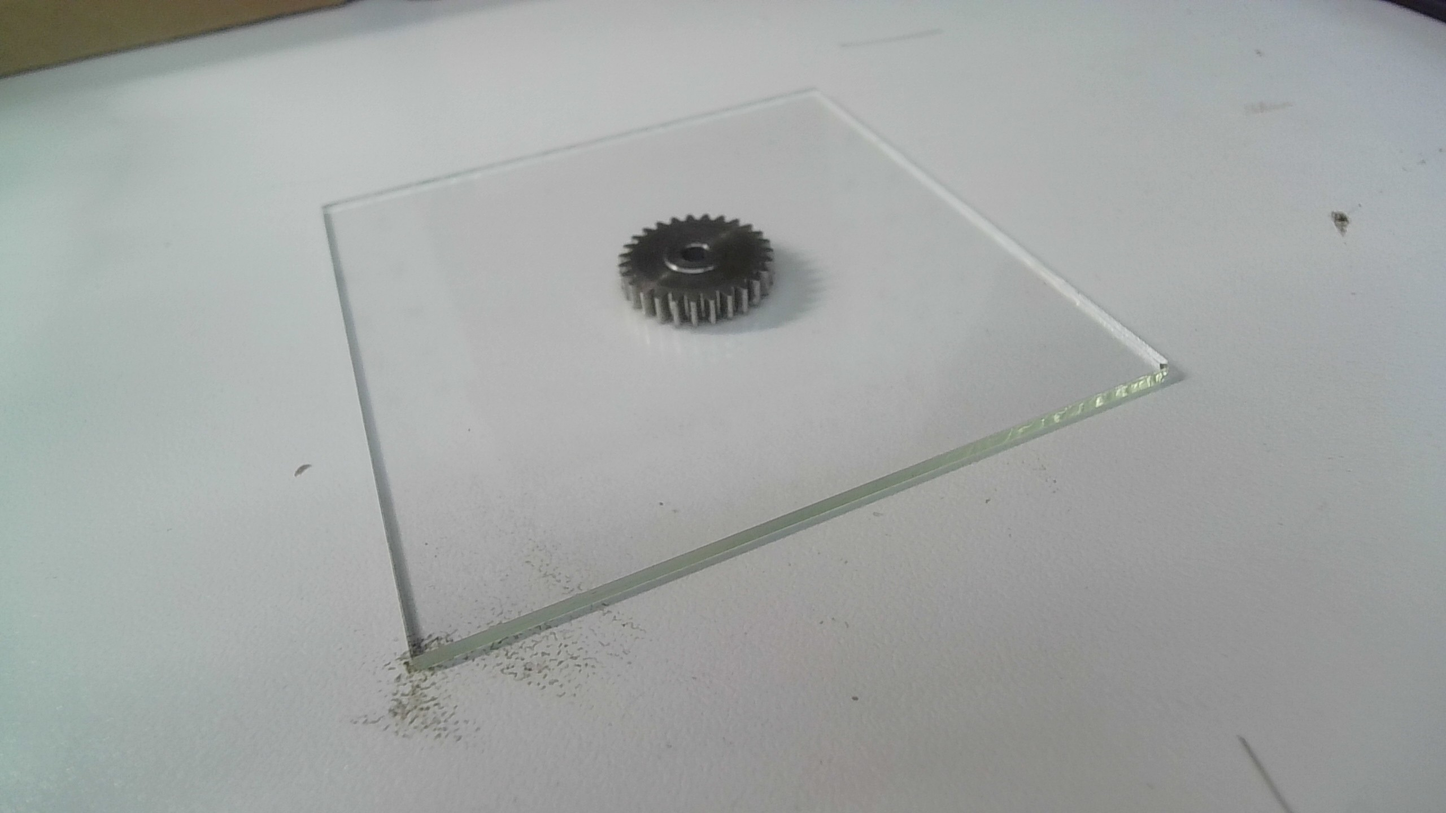gear: (615, 212, 778, 332)
